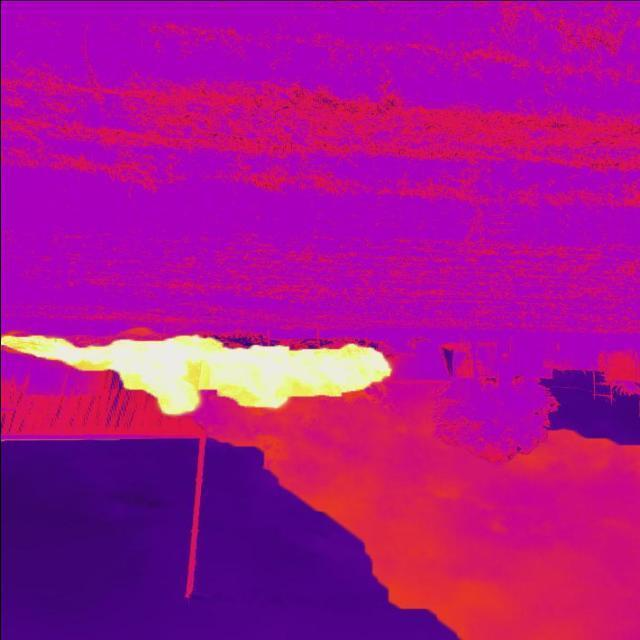fire: (1, 328, 393, 426)
